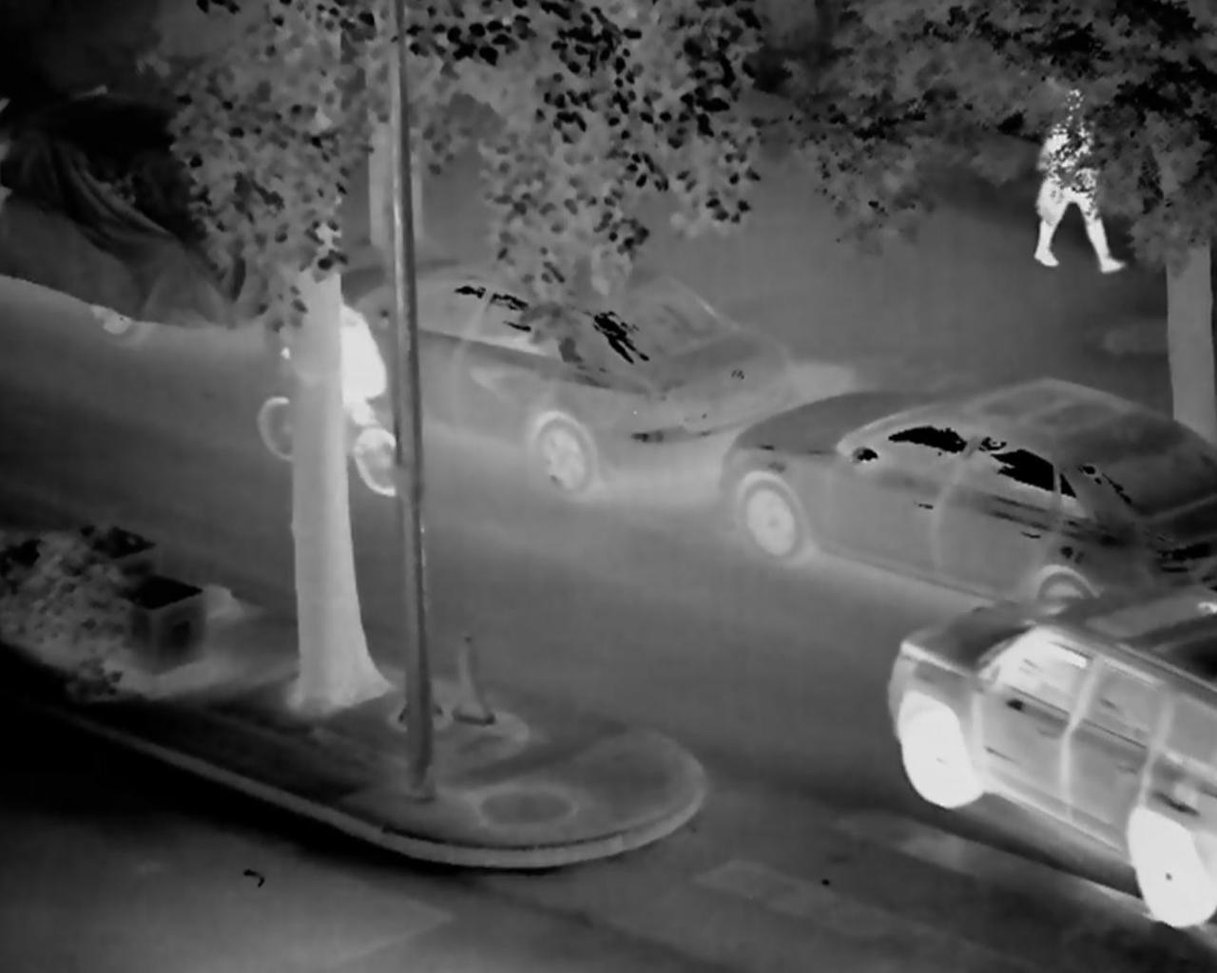person: (1019, 87, 1132, 280), (280, 278, 383, 429)
